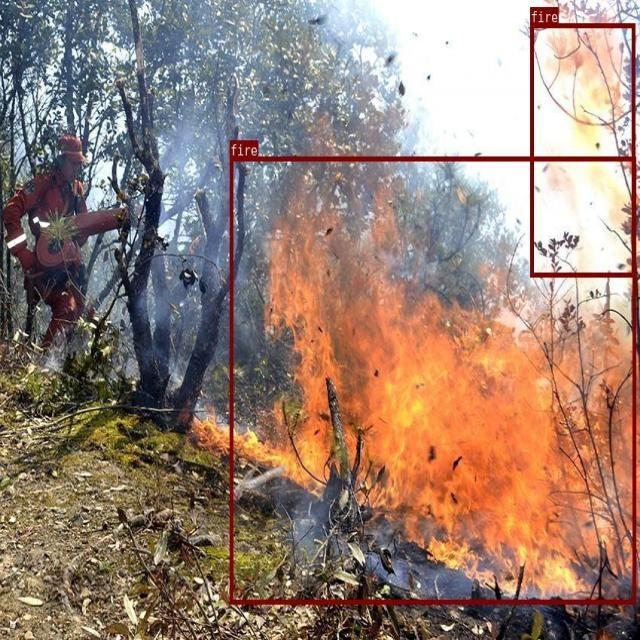fire: (229, 157, 635, 604), (530, 23, 634, 276)
